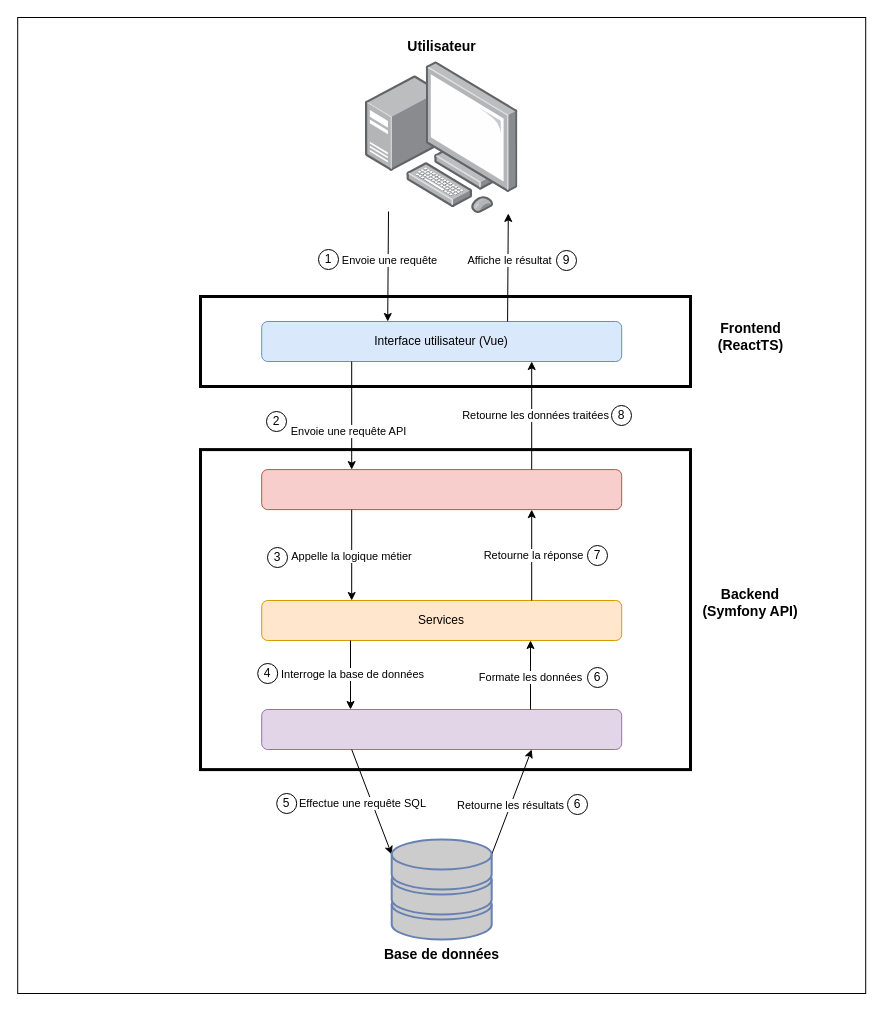
The diagram is 883 pixels wide and 1011 high, and some of its shapes have lost their labels. The centre of each missing label's shape, as x and y in pixels:
"Controller" goes at (x=441, y=489).
"Modèle (ORM Doctrine)" goes at (x=441, y=729).
